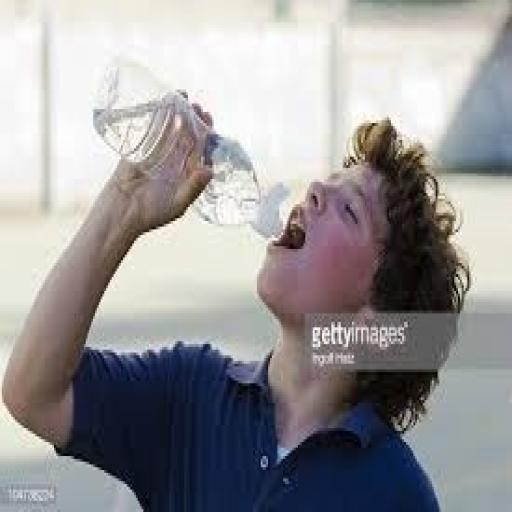drinking: (90, 56, 288, 238)
